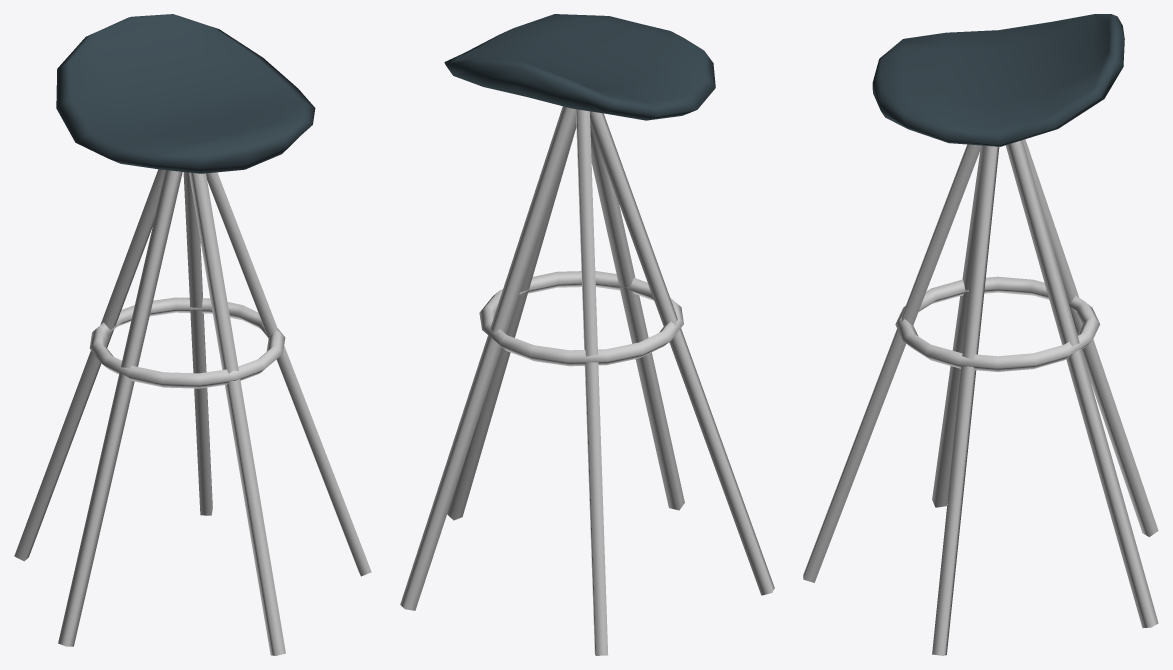
The model's file is chair_017.fbx.
The picture shows the model from 3 angles, left to right: view 1: azimuth 30°, elevation 25°; view 2: azimuth 150°, elevation 25°; view 3: azimuth 270°, elevation 25°; orthographic projection. The views are drawn at different scales.
Visible parts, largest first — view 1: chair_017; view 2: chair_017; view 3: chair_017.
Part boxes in pixels (<box>): chair_017: <box>14,14,371,655</box>; chair_017: <box>400,14,774,655</box>; chair_017: <box>803,14,1158,655</box>.
Size of the model in its own units: 71.92 by 68.42 by 118.
